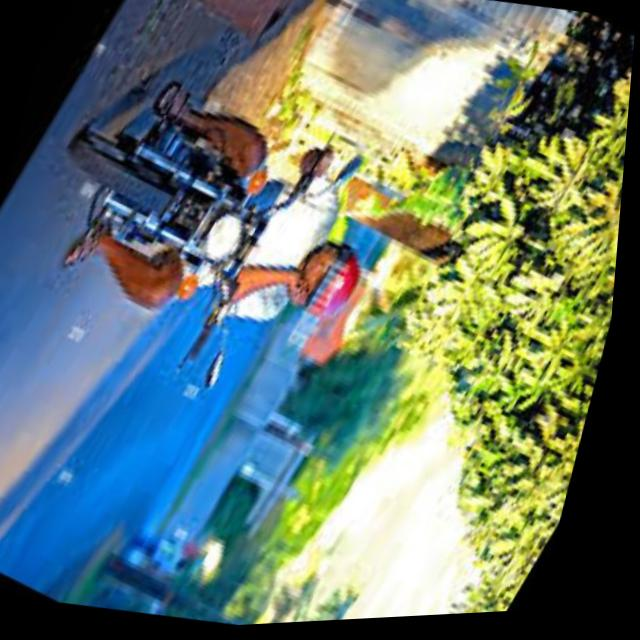USING_MOBILE: (267, 248, 348, 336)
WITH_HELMET: (280, 219, 396, 347)
